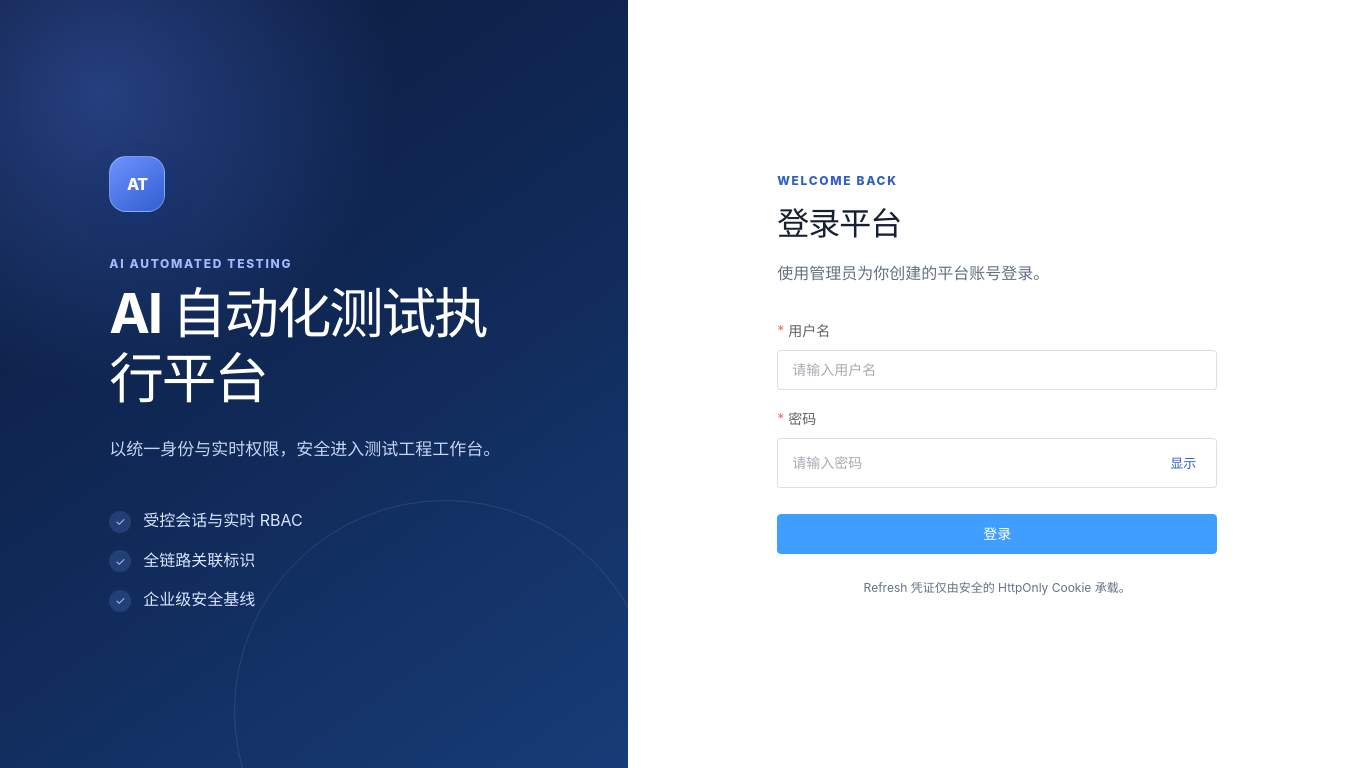
it: 登录页（组件测试，API 为 mock） › renders the formal login form and validates required fields
This screenshot has width=1366, height=768.
Expected: the heading "登录平台" is shown, [777,204,901,243]
Click the button "登录": [997, 534] box [777,514,1217,554]
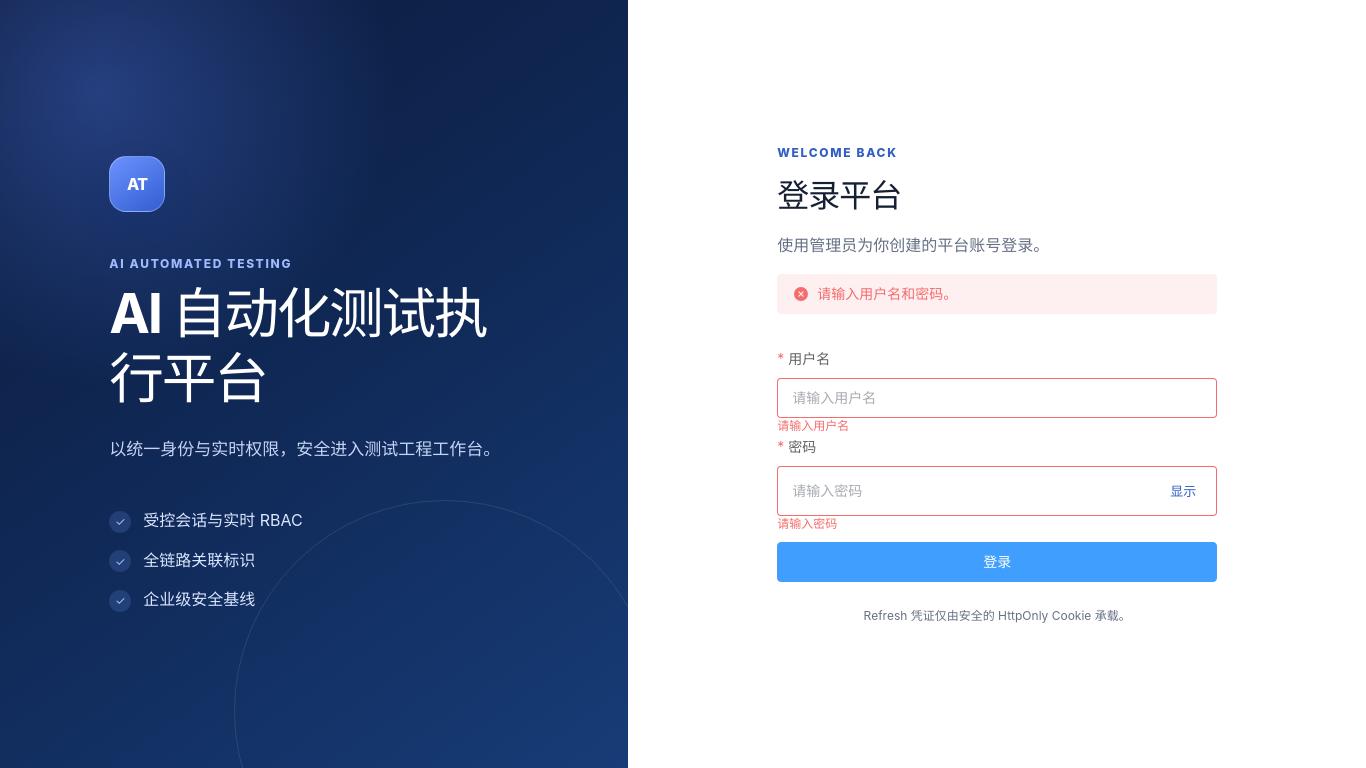
Now the text "请输入用户名和密码。" is shown, box [817,282,957,306]
